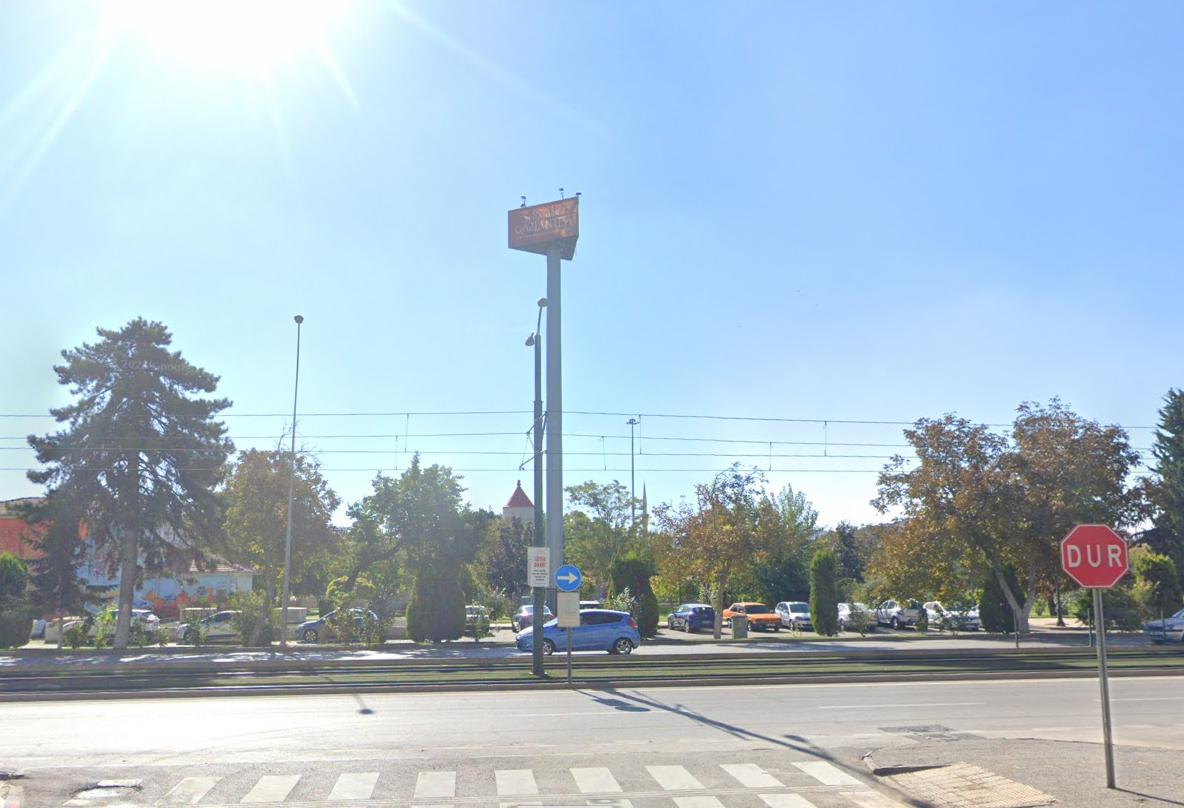stop: (1060, 524, 1128, 588)
